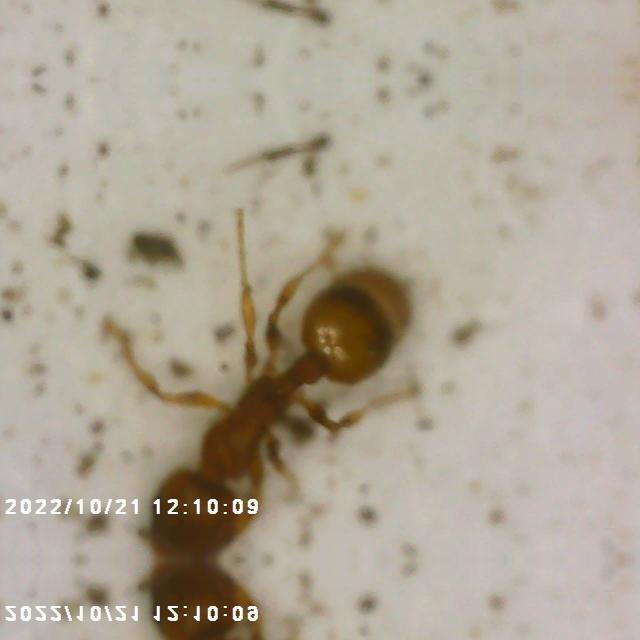Temnothorax: (52, 212, 470, 550), (51, 568, 468, 640)
